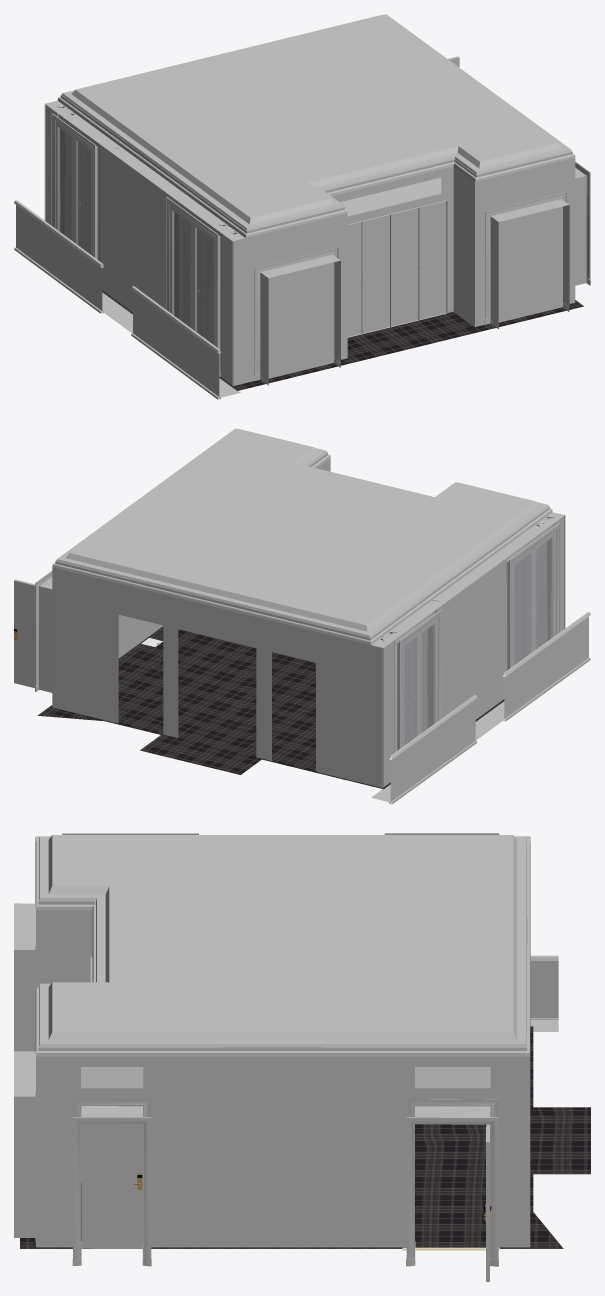
File: SCP_SalonCharpentier.fbx
3 renders of one model, top to bottom at view 1: azimuth 30°, elevation 25°; view 2: azimuth 150°, elevation 25°; view 3: azimuth 270°, elevation 25°, orthographic. The views are drawn at different scales.
Parts seen in each view (by area): view 1: polySurface122, polySurface124, polySurface123, polySurface8; view 2: polySurface122, polySurface123, polySurface124, polySurface8; view 3: polySurface122, polySurface124, polySurface123.
Part boxes in pixels (x1,y1,x2,y2): polySurface122: (14,14,583,399); polySurface124: (51,56,590,385); polySurface123: (57,14,575,237); polySurface8: (59,128,213,343); polySurface122: (38,429,590,804); polySurface123: (52,428,552,644); polySurface124: (14,521,559,752); polySurface8: (404,537,552,745); polySurface122: (20,835,590,1248); polySurface124: (14,833,499,1281); polySurface123: (35,835,530,1056).
Size of the model in its own units: 875 by 323 by 793.
